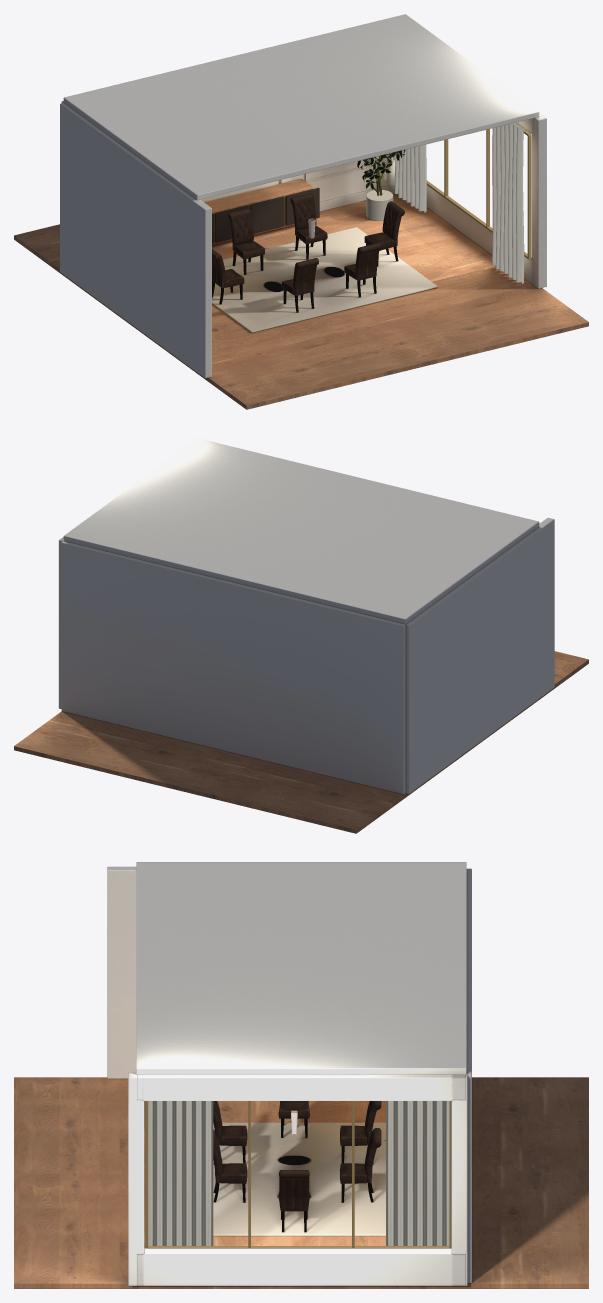
The model's file is dining-baked-interior.glb.
3 renders of one model, top to bottom at view 1: azimuth 30°, elevation 25°; view 2: azimuth 150°, elevation 25°; view 3: azimuth 270°, elevation 25°, orthographic. The views are drawn at different scales.
Visible parts, largest first — view 1: Studio baked architecture, Pleated curtain, Pleated curtain.001, dining_chair_02, dining_chair_02.002, dining_chair_02.001, dining_chair_02.003, dining_chair_02.005, dining_chair_02.004, Tree planter, pachira_aquatica_01_leaves_d, Window mullion; view 2: Studio baked architecture; view 3: Studio baked architecture, Pleated curtain, Pleated curtain.001, dining_chair_02.005, dining_chair_02.002, dining_chair_02.003, dining_chair_02, Window horizontal rail, dining_chair_02.001, dining_chair_02.004, Window mullion.
Boxes of the visible parts, bbox=[...] form: Studio baked architecture: bbox=[14, 14, 588, 409]; Pleated curtain: bbox=[492, 123, 524, 283]; Pleated curtain.001: bbox=[394, 144, 426, 212]; dining_chair_02: bbox=[228, 208, 264, 274]; dining_chair_02.002: bbox=[290, 193, 327, 259]; dining_chair_02.001: bbox=[282, 258, 318, 312]; dining_chair_02.003: bbox=[344, 242, 381, 297]; dining_chair_02.005: bbox=[364, 201, 404, 266]; dining_chair_02.004: bbox=[212, 249, 244, 304]; Tree planter: bbox=[366, 190, 393, 220]; pachira_aquatica_01_leaves_d: bbox=[357, 149, 405, 189]; Window mullion: bbox=[527, 134, 531, 259]; Studio baked architecture: bbox=[14, 438, 588, 833]; Studio baked architecture: bbox=[14, 862, 588, 1288]; Pleated curtain: bbox=[145, 1101, 213, 1247]; Pleated curtain.001: bbox=[386, 1101, 449, 1245]; dining_chair_02.005: bbox=[278, 1170, 309, 1232]; dining_chair_02.002: bbox=[340, 1128, 381, 1202]; dining_chair_02.003: bbox=[213, 1129, 247, 1202]; dining_chair_02: bbox=[340, 1101, 381, 1164]; Window horizontal rail: bbox=[148, 1246, 450, 1248]; dining_chair_02.001: bbox=[213, 1101, 247, 1164]; dining_chair_02.004: bbox=[278, 1101, 309, 1137]; Window mullion: bbox=[145, 1101, 148, 1248].
Bounding box in the file's own units: 6.96 × 3.38 × 8.
Materials: 12 (9 with a texture image).
